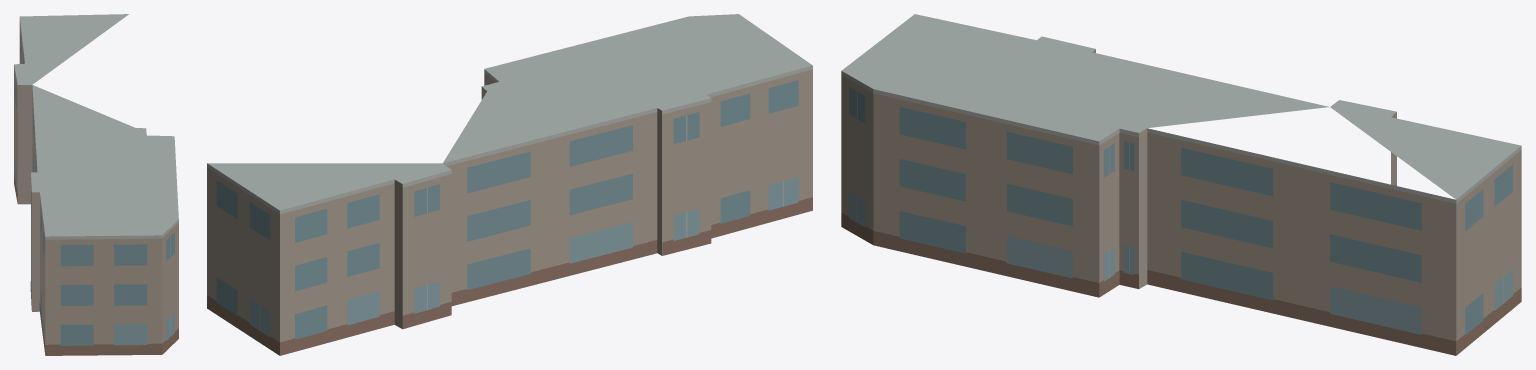
File: survey-upis-32992588.glb
3 views of the same model, side by side, from view 1: azimuth 30°, elevation 25°; view 2: azimuth 150°, elevation 25°; view 3: azimuth 270°, elevation 25° (orthographic). The views are drawn at different scales.
Visible parts, largest first — view 1: survey-upis-32992588.tmp; view 2: survey-upis-32992588.tmp; view 3: survey-upis-32992588.tmp.
Part boxes in pixels (left/top/right/bottom): survey-upis-32992588.tmp: left=14, top=14, right=178, bottom=355; survey-upis-32992588.tmp: left=207, top=14, right=812, bottom=355; survey-upis-32992588.tmp: left=841, top=14, right=1521, bottom=355.
Size of the model in its own units: 23.35 by 9.15 by 36.13.
